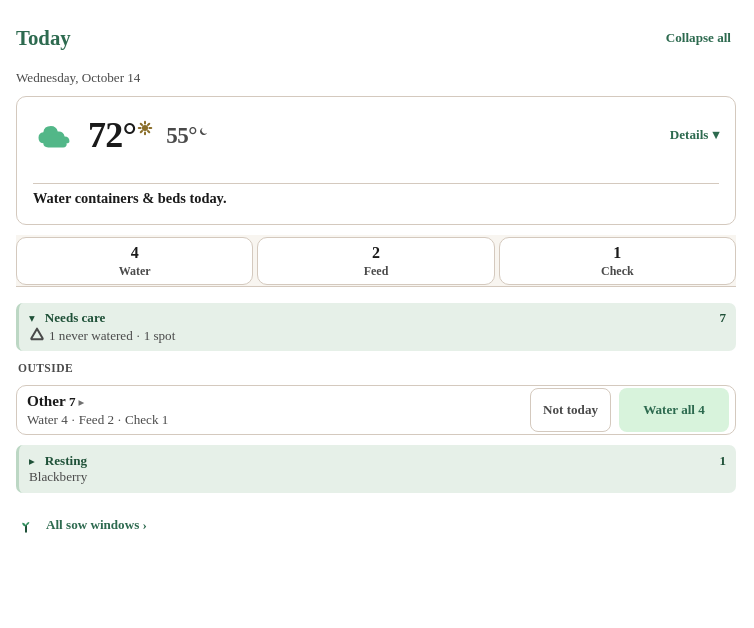
Test: S7 — only a header tap reaches the server › Expand all, Collapse all and a chip jump send nothing
Click the button "Collapse all". click: (698, 38)
box: [661,16,736,60]
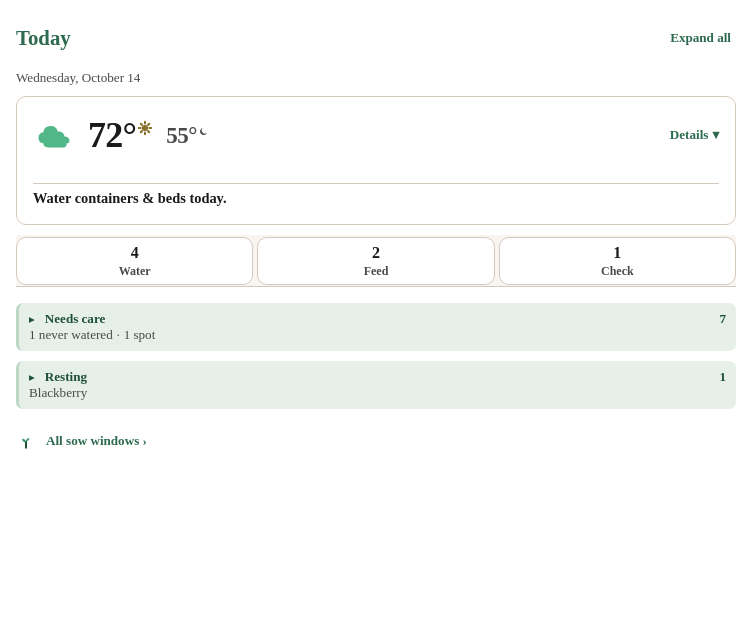
Click the button "Expand all". click: (701, 38)
box: [665,16,736,60]
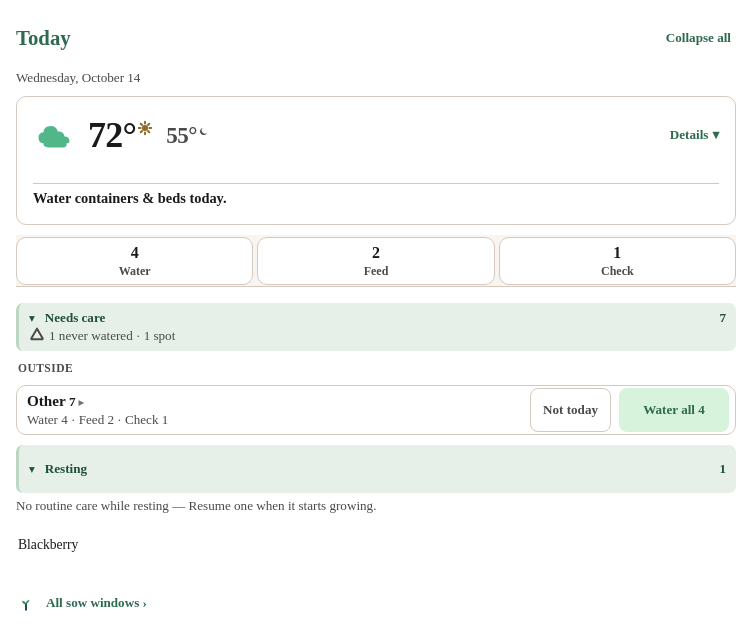
Click the button "Collapse all". click: (698, 38)
box: [661,16,736,60]
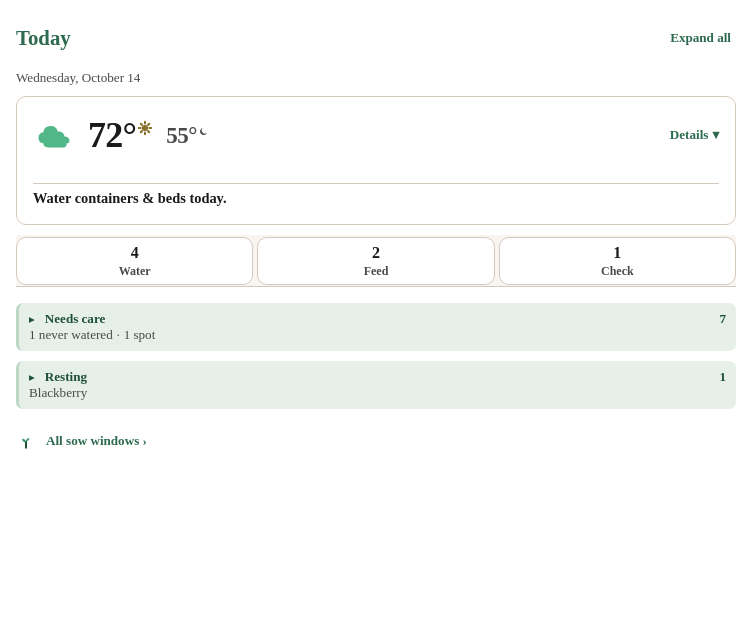
Click the button "2 Feed". click: (376, 261)
box: [257,237,495,285]
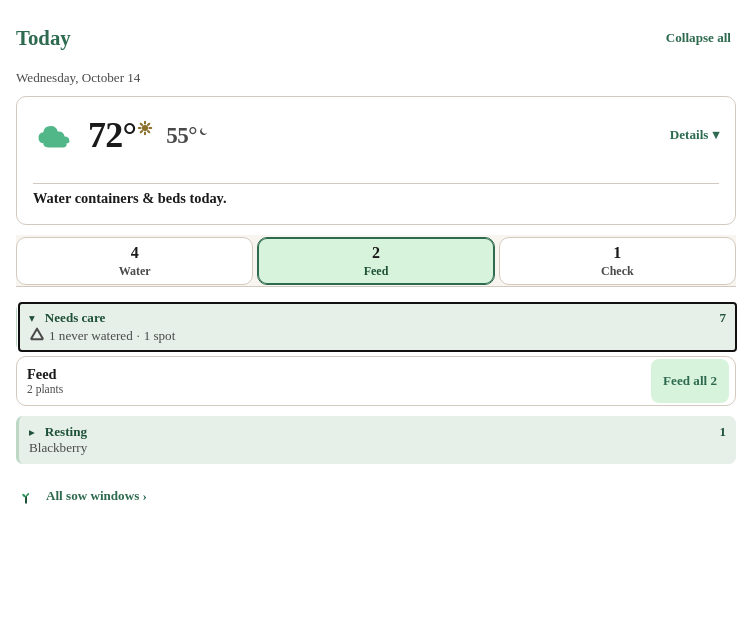
Result: the button "▾ Needs care 7 1 never watered · 1 spot" is expanded at [19,303,736,351]
